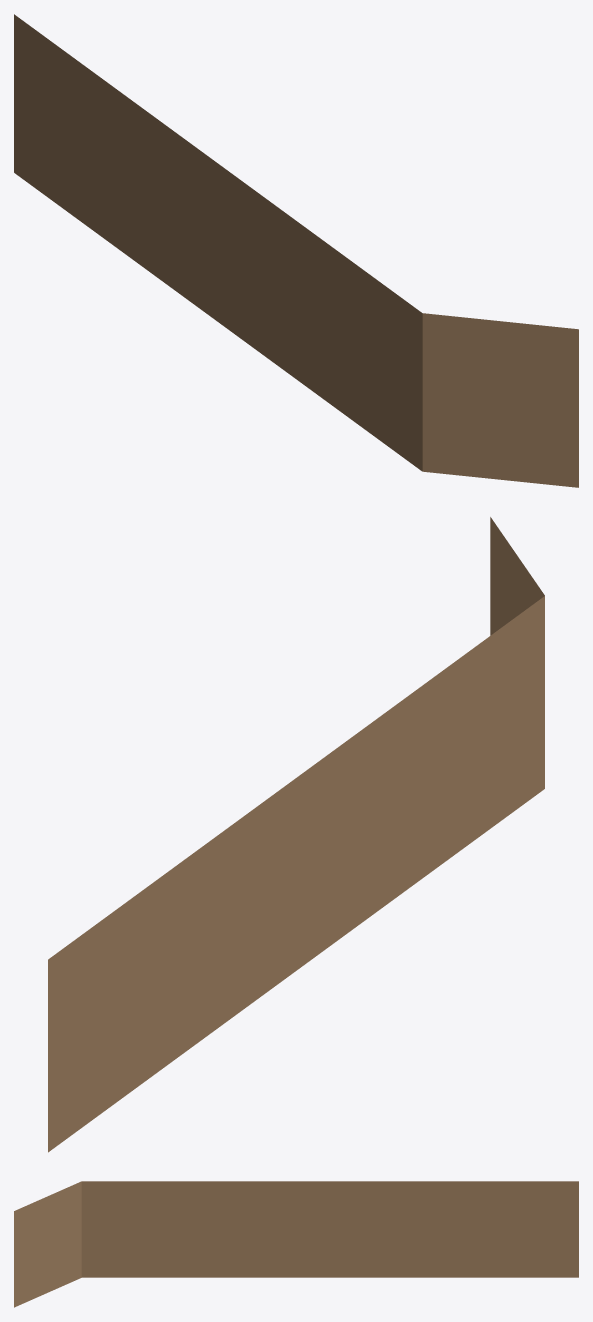
Rendered from 1361-Buildings-shell-pieces-facade-bay-wall-round-an-opening-reveals-sill-head-emitBa.glb.
The picture shows the model from 3 angles, top to bottom: view 1: azimuth 30°, elevation 25°; view 2: azimuth 150°, elevation 25°; view 3: azimuth 270°, elevation 25°; orthographic projection. The views are drawn at different scales.
Parts seen in each view (by area): view 1: emitBay; view 2: emitBay; view 3: emitBay.
Boxes of the visible parts, left/top/right/bottom form: emitBay: left=14, top=14, right=578, bottom=487; emitBay: left=48, top=517, right=544, bottom=1152; emitBay: left=14, top=1181, right=578, bottom=1307.
Size of the model in its own units: 2.03 by 3.05 by 16.18.
